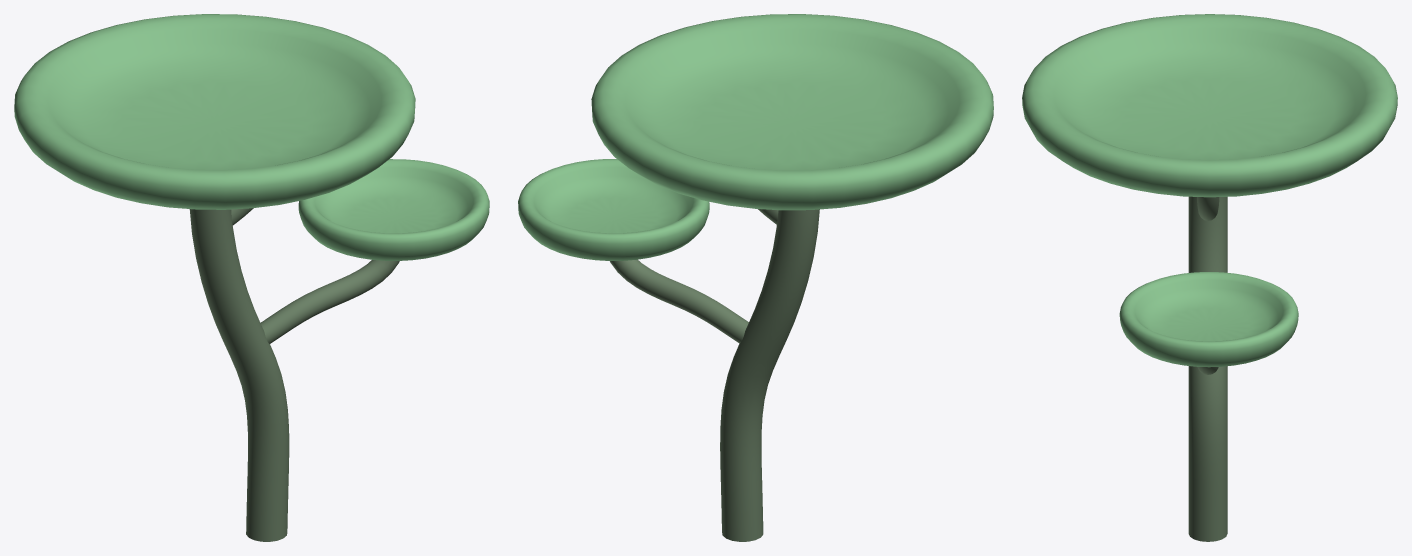
The model's file is birdbath_lilypad2.fbx.
3 views of the same model, side by side, from view 1: azimuth 30°, elevation 25°; view 2: azimuth 150°, elevation 25°; view 3: azimuth 270°, elevation 25° (orthographic). The views are drawn at different scales.
Parts seen in each view (by area): view 1: biglilypad; view 2: biglilypad; view 3: biglilypad.
Part boxes in pixels (x1,y1,x2,y2): biglilypad: [14, 14, 489, 541]; biglilypad: [518, 14, 993, 541]; biglilypad: [1022, 14, 1397, 541].
Size of the model in its own units: 439 by 434 by 351.
